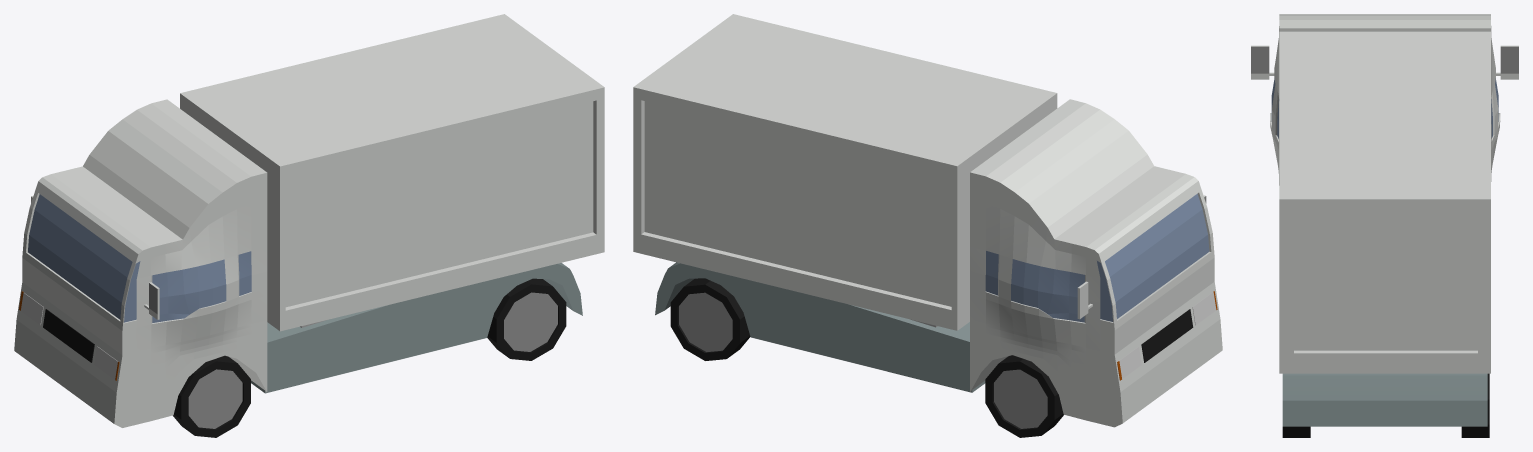
File: BoxTruck.fbx
The picture shows the model from 3 angles, left to right: view 1: azimuth 30°, elevation 25°; view 2: azimuth 150°, elevation 25°; view 3: azimuth 270°, elevation 25°; orthographic projection. The views are drawn at different scales.
Visible parts, largest first — view 1: Truck2; view 2: Truck2; view 3: Truck2.
Part boxes in pixels (left/top/right/bottom): Truck2: left=14, top=14, right=604, bottom=437; Truck2: left=633, top=14, right=1222, bottom=437; Truck2: left=1251, top=14, right=1518, bottom=437.
Size of the model in its own units: 3.42 by 1.72 by 1.53.
